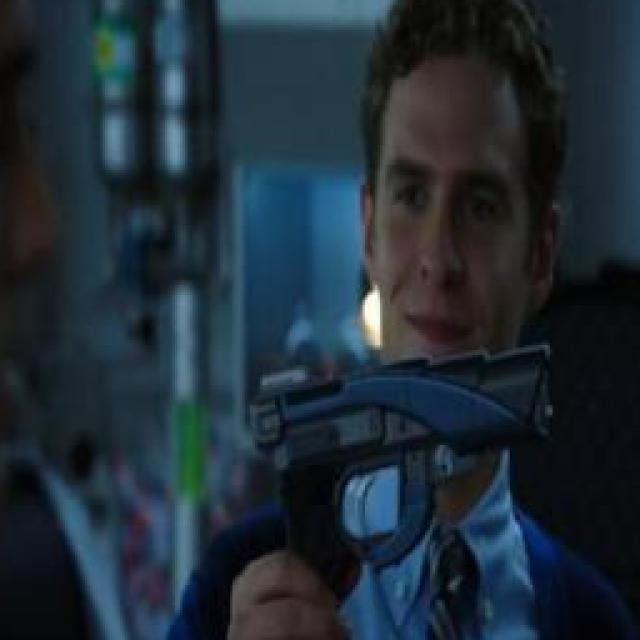pistol: (183, 315, 575, 640)
